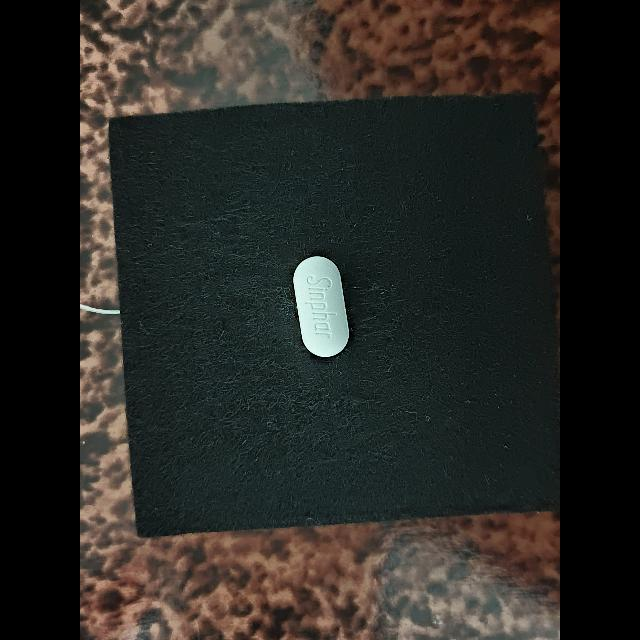Intact Pill: (293, 256, 349, 357)
